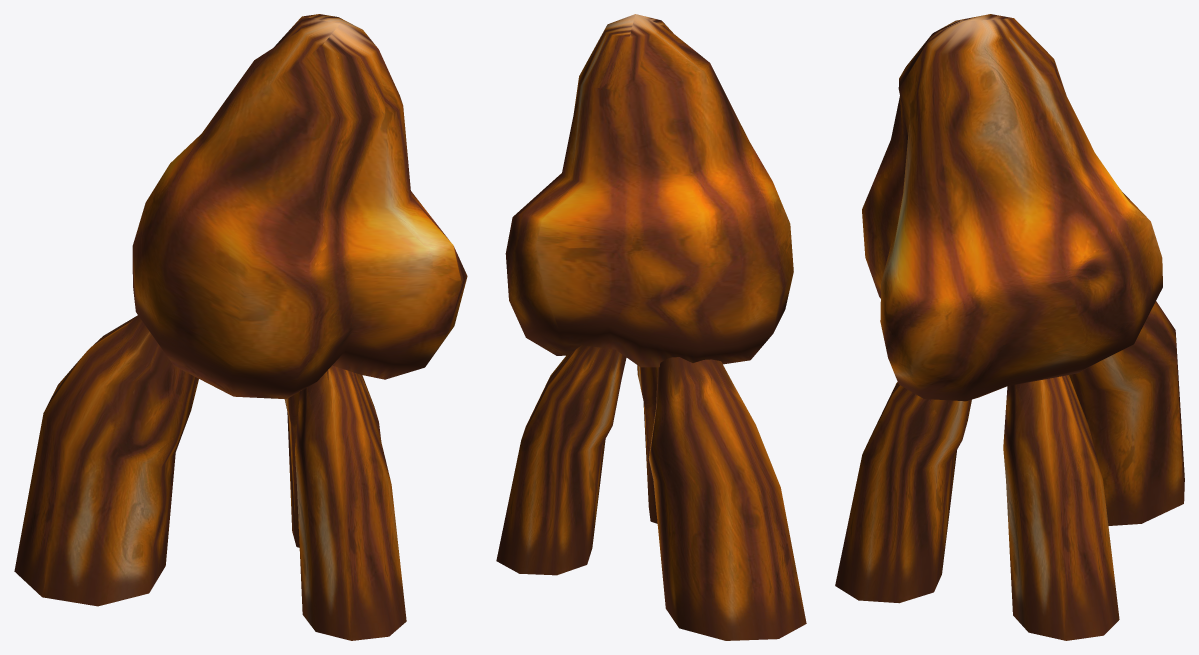
Rendered from tree2.FBX.
The picture shows the model from 3 angles, left to right: view 1: azimuth 30°, elevation 25°; view 2: azimuth 150°, elevation 25°; view 3: azimuth 270°, elevation 25°; orthographic projection. The views are drawn at different scales.
Parts seen in each view (by area): view 1: topTree2, tree2; view 2: topTree2, tree2; view 3: topTree2, tree2.
Boxes of the visible parts, box(x1,y1,x2,y2) form: topTree2: box(132, 14, 467, 399); tree2: box(14, 315, 406, 640); topTree2: box(505, 14, 793, 367); tree2: box(496, 345, 806, 640); topTree2: box(862, 14, 1162, 401); tree2: box(835, 301, 1184, 640).
Size of the model in its own units: 13.07 by 11.28 by 20.39.
